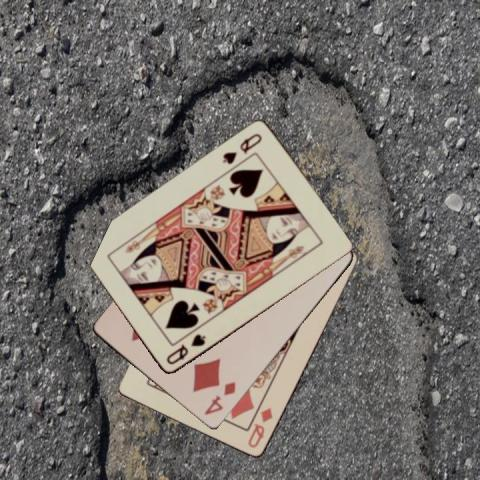4d: (202, 379, 237, 417)
Qd: (245, 405, 274, 450)
Qs: (164, 331, 208, 367), (220, 131, 264, 166)
